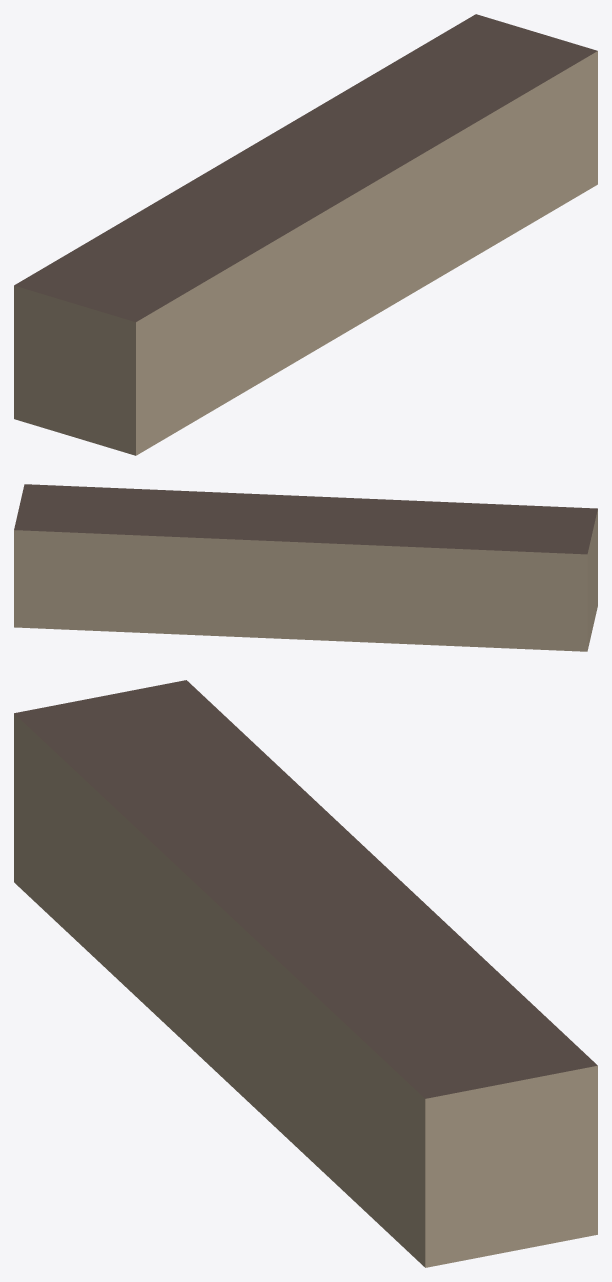
3 views of the same model, one above another, from view 1: azimuth 30°, elevation 25°; view 2: azimuth 150°, elevation 25°; view 3: azimuth 270°, elevation 25° (orthographic). The views are drawn at different scales.
Visible parts, largest first — view 1: HP-w369237955; view 2: HP-w369237955; view 3: HP-w369237955.
Part boxes in pixels (box(x1,y1,x2,y2)): HP-w369237955: box(14, 14, 597, 455); HP-w369237955: box(14, 484, 597, 651); HP-w369237955: box(14, 680, 597, 1267).
Bounding box in the file's own units: 47.81 × 9 × 28.17.
